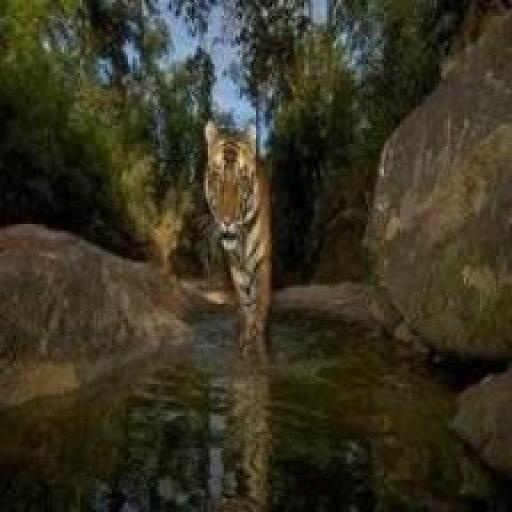Tiger: (187, 110, 295, 367)
